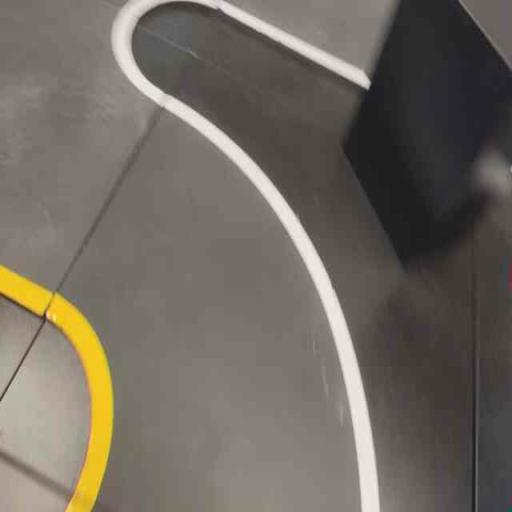left: (0, 85, 383, 511)
